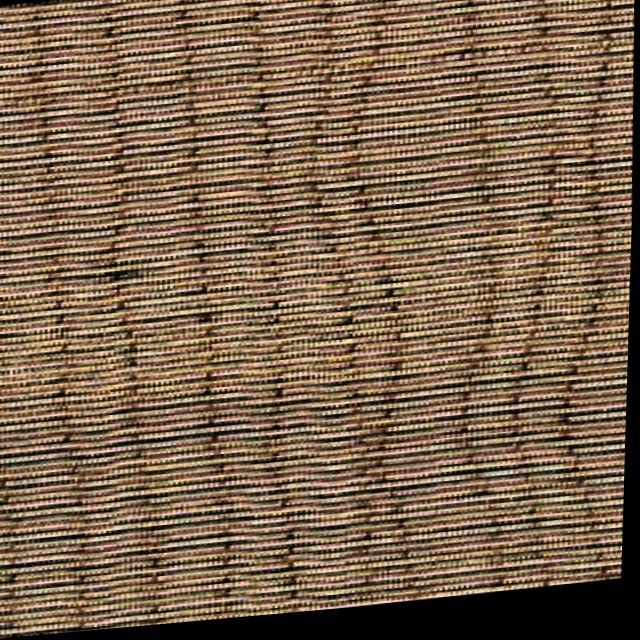Stitch: (303, 330, 463, 611), (200, 363, 347, 599)
